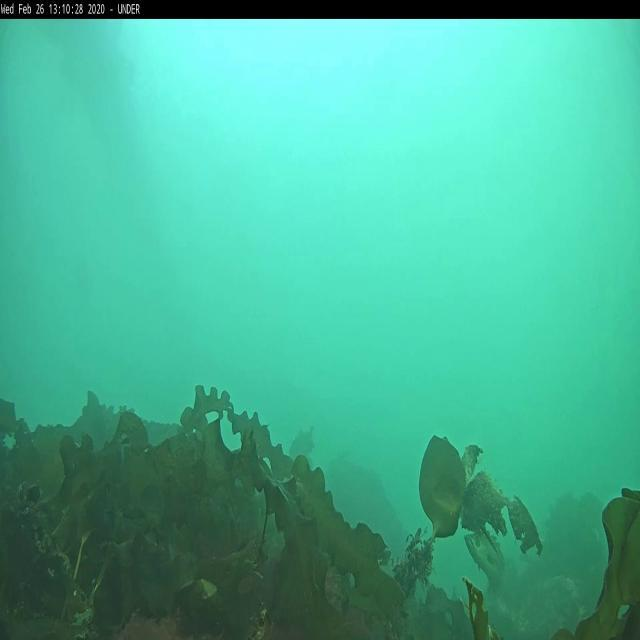fish: (462, 528, 502, 588)
